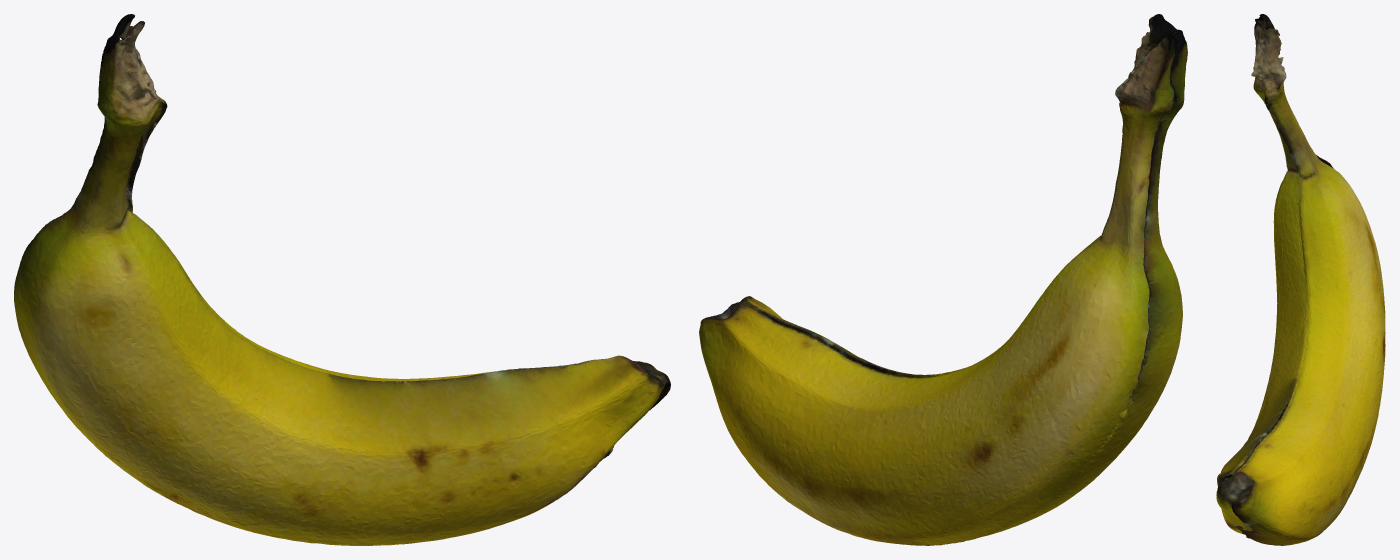
Rendered from 114025_bananexyz-comp_-_exp-1.65.gltf.
3 views of the same model, side by side, from view 1: azimuth 30°, elevation 25°; view 2: azimuth 150°, elevation 25°; view 3: azimuth 270°, elevation 25° (orthographic). The views are drawn at different scales.
Parts seen in each view (by area): view 1: 33a3dbf6-ab38-4e98-990c-0622e06efcca; view 2: 33a3dbf6-ab38-4e98-990c-0622e06efcca; view 3: 33a3dbf6-ab38-4e98-990c-0622e06efcca.
Part boxes in pixels (x1=…): 33a3dbf6-ab38-4e98-990c-0622e06efcca: x1=14, y1=14, x2=670, y2=545; 33a3dbf6-ab38-4e98-990c-0622e06efcca: x1=699, y1=14, x2=1187, y2=545; 33a3dbf6-ab38-4e98-990c-0622e06efcca: x1=1216, y1=14, x2=1385, y2=545.
Bounding box in the file's own units: 139 × 139 × 51.83.
1 material, 1 textured.
